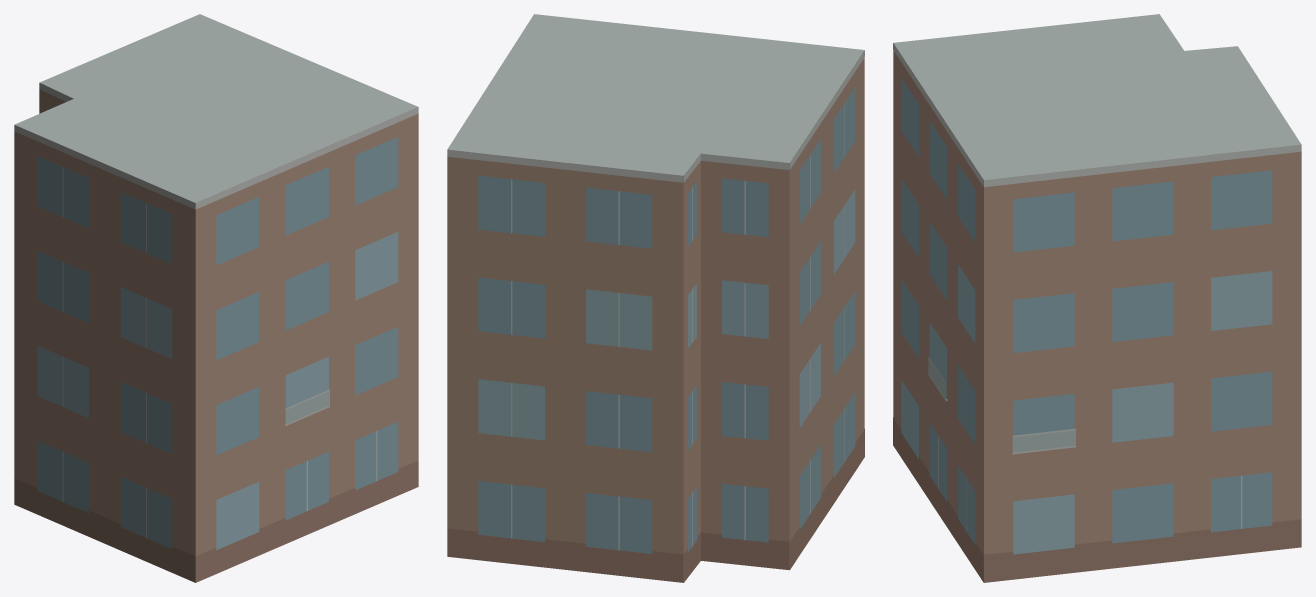
Rendered from survey-upis-32462889.glb.
3 renders of one model, left to right at view 1: azimuth 30°, elevation 25°; view 2: azimuth 150°, elevation 25°; view 3: azimuth 270°, elevation 25°, orthographic. The views are drawn at different scales.
Parts seen in each view (by area): view 1: survey-upis-32462889.tmp; view 2: survey-upis-32462889.tmp; view 3: survey-upis-32462889.tmp.
Part boxes in pixels (x1,y1,x2,y2): survey-upis-32462889.tmp: (14,14,418,582); survey-upis-32462889.tmp: (447,14,864,582); survey-upis-32462889.tmp: (893,14,1301,582).
Bounding box in the file's own units: 12.5 × 14.1 × 12.97.
